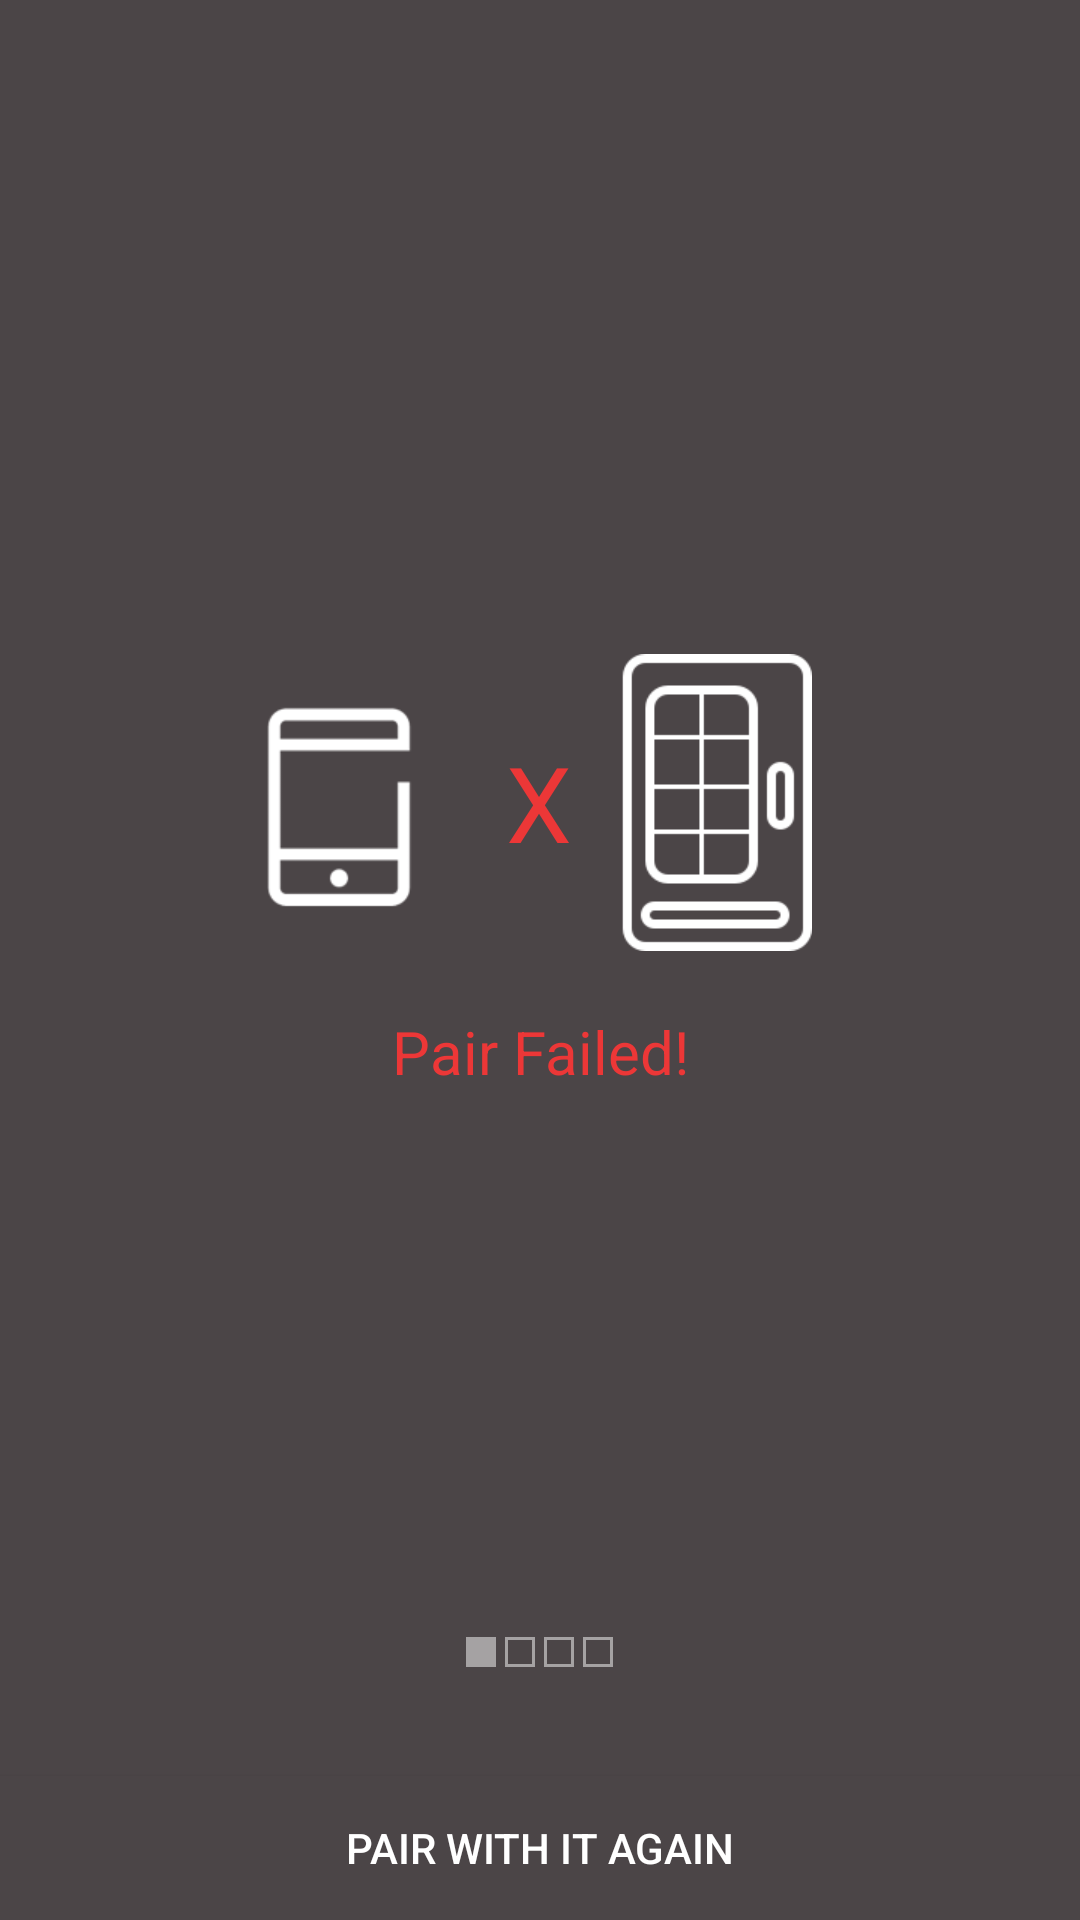

Named icons in this screenshot (1080w x 1920h) and their bounding boxes, (x1, y1, x2, y2):
vend progress unfill box: (505, 1637, 535, 1667), (544, 1637, 574, 1667), (583, 1637, 613, 1667)
